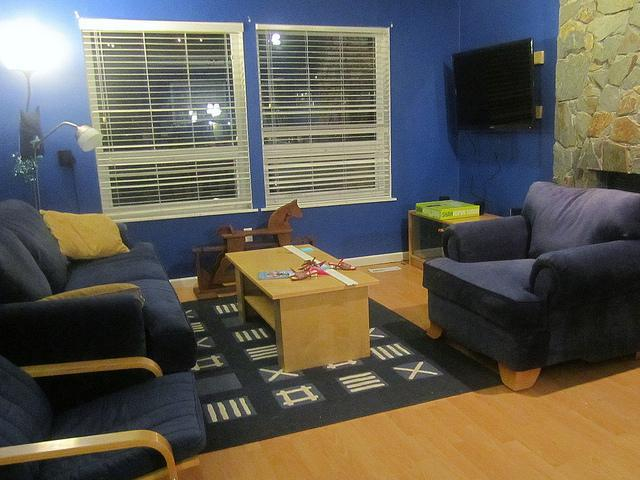tv: (445, 29, 545, 142)
